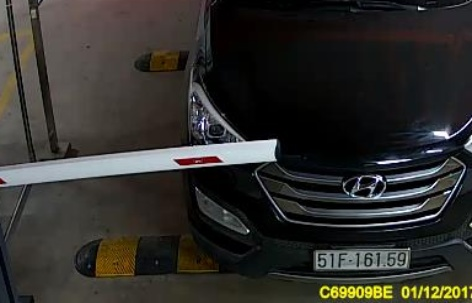plate: (310, 245, 409, 274)
